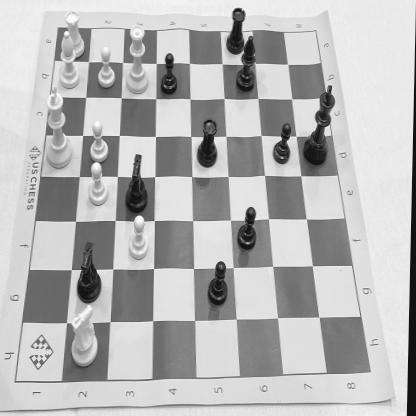black-bishop: (234, 34, 261, 96)
black-king: (302, 81, 340, 167)
black-knight: (74, 236, 108, 306), (124, 148, 154, 219)
black-pawn: (208, 256, 234, 310), (235, 201, 260, 255), (157, 50, 180, 100), (272, 118, 294, 168)
black-rook: (194, 114, 223, 173), (224, 2, 248, 58)
white-bishop: (55, 30, 83, 90)
white-king: (42, 83, 78, 171)
white-knight: (67, 301, 105, 373)
white-pawn: (95, 41, 122, 93), (86, 159, 112, 210), (127, 214, 154, 262), (88, 117, 112, 165)
white-queen: (122, 20, 155, 98)
white-rook: (62, 6, 90, 62)
